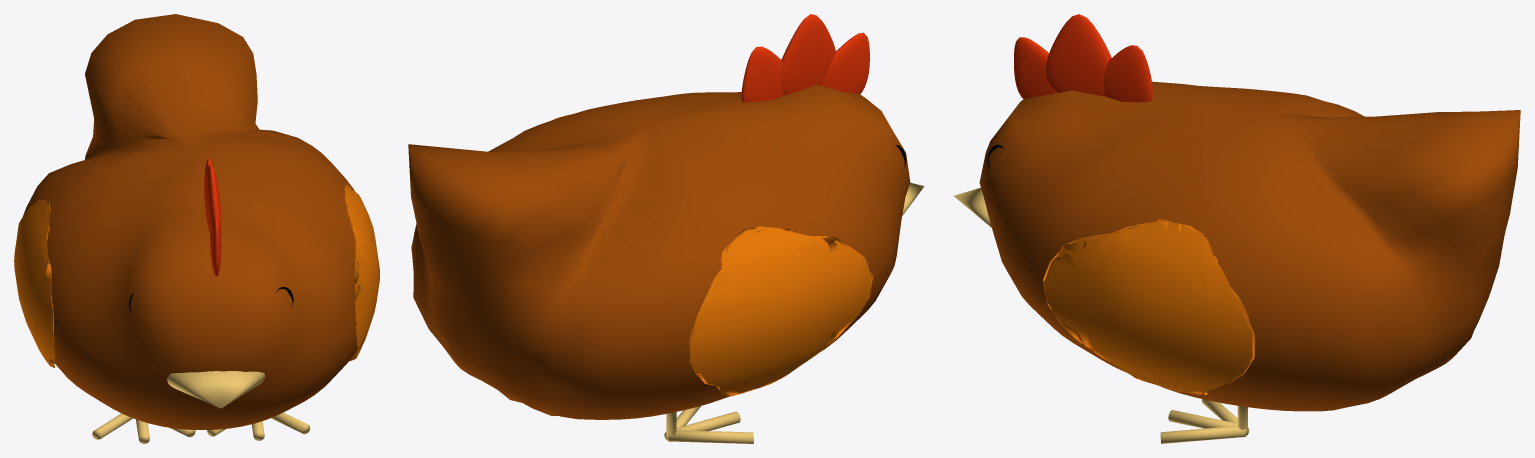
Rendered from galinha_marrom.gltf.
The picture shows the model from 3 angles, left to right: view 1: azimuth 30°, elevation 25°; view 2: azimuth 150°, elevation 25°; view 3: azimuth 270°, elevation 25°; orthographic projection. The views are drawn at different scales.
Parts seen in each view (by area): view 1: galinha_marrom; view 2: galinha_marrom; view 3: galinha_marrom.
Boxes of the visible parts, x1,y1,x2,y2 form: galinha_marrom: (14,14,379,443); galinha_marrom: (408,14,924,443); galinha_marrom: (954,14,1520,443).
Size of the model in its own units: 0.6549 by 0.5879 by 0.842.
